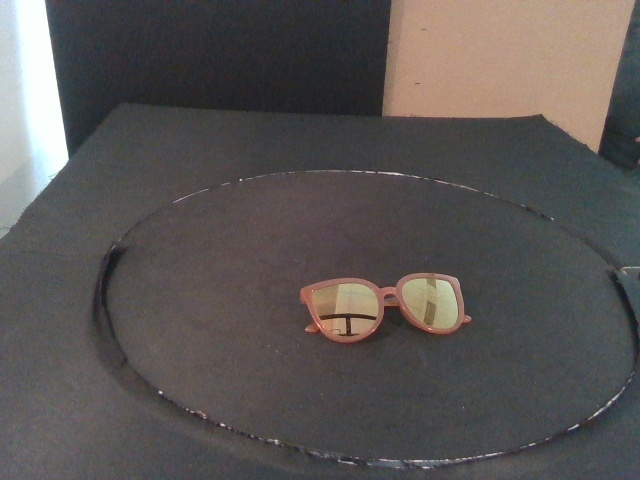glasses: (299, 271, 472, 345)
